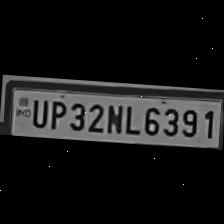1: (198, 106, 217, 139)
2: (84, 99, 105, 134)
3: (65, 97, 86, 132), (160, 102, 180, 138)
6: (138, 103, 160, 136)
9: (177, 105, 200, 138)
L: (122, 101, 140, 136)
N: (103, 100, 125, 134)
P: (46, 97, 67, 131)
U: (28, 95, 48, 129)
